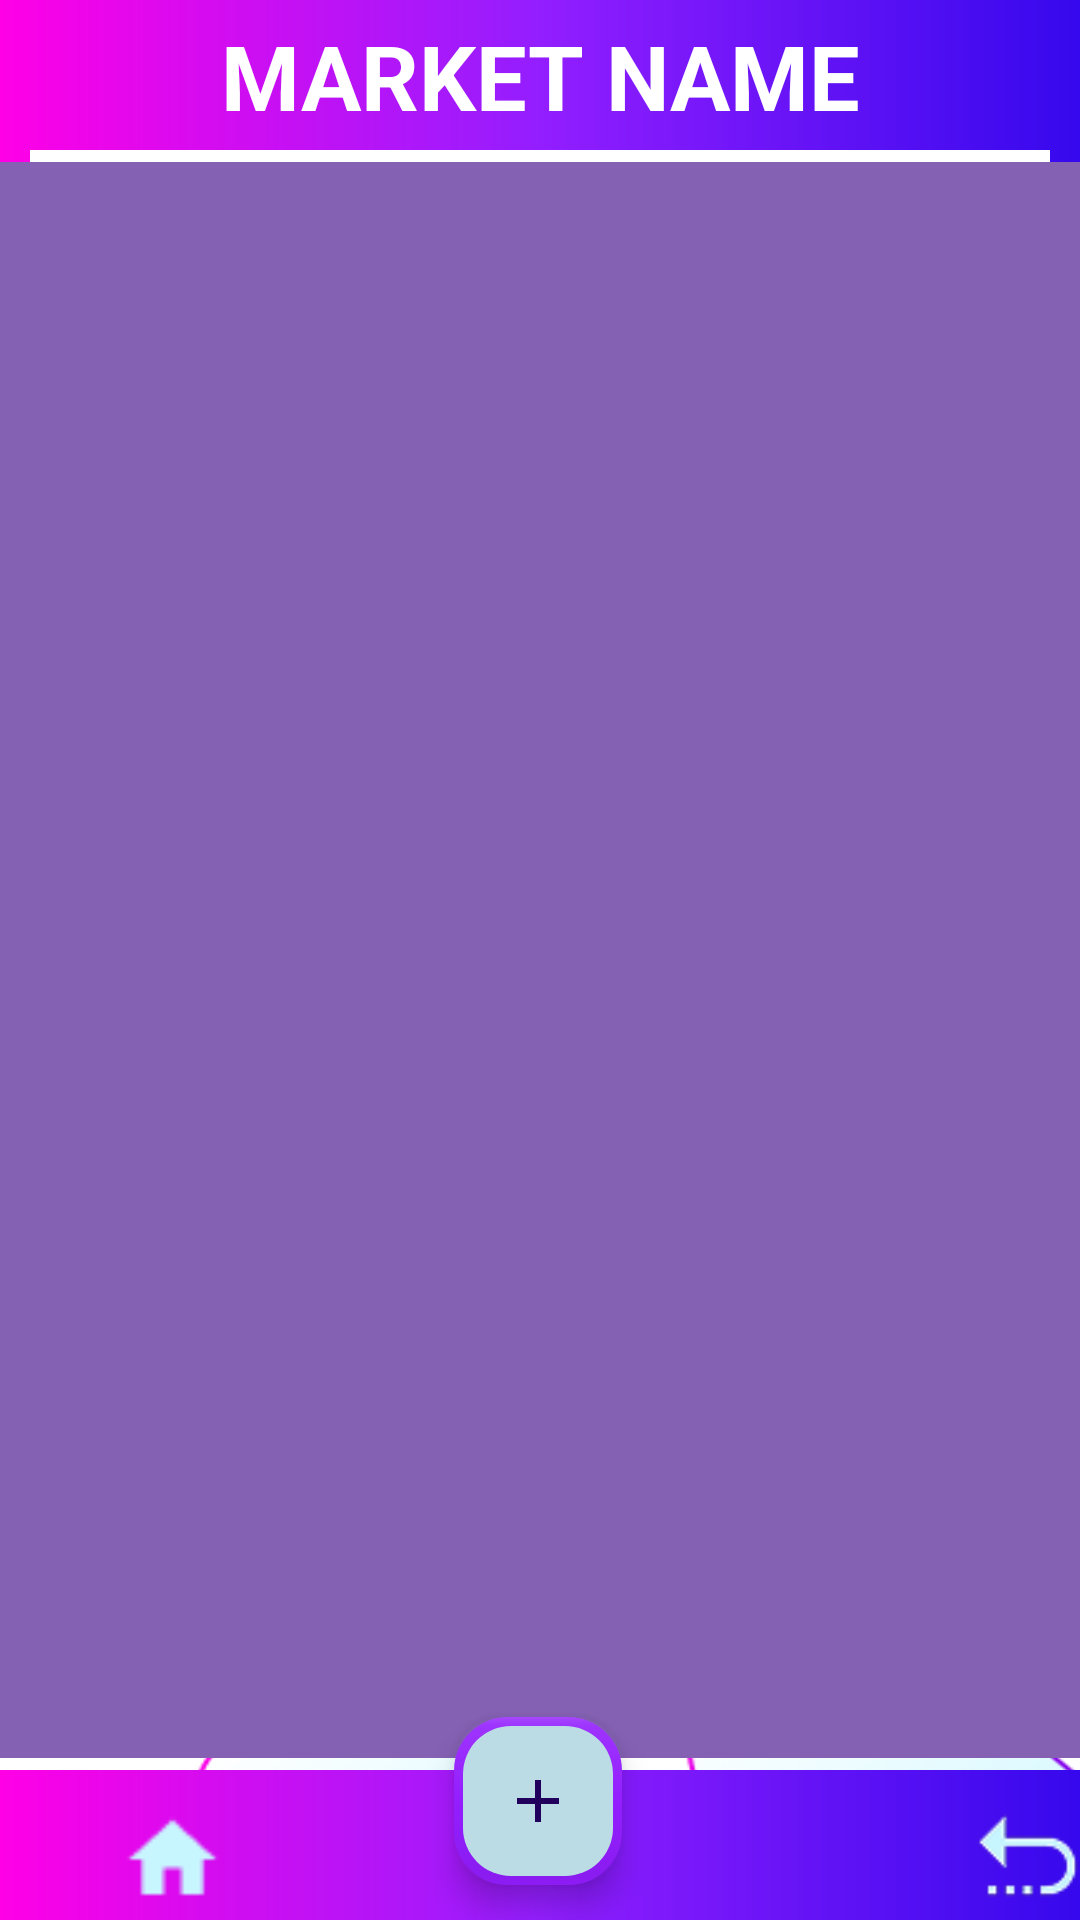

Where to tap for icons on this 1080px×1920px app screen, as (x=x, y=y):
back: (x=1028, y=1856)
home: (x=173, y=1857)
